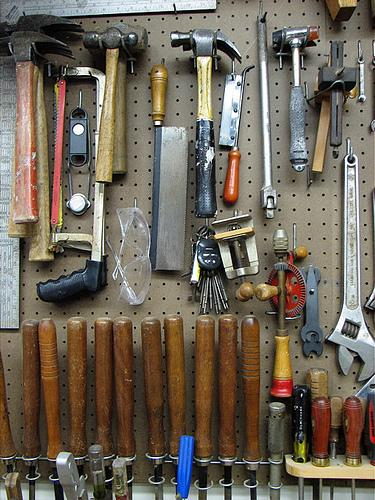hammer: (0, 29, 75, 226), (168, 27, 244, 220), (80, 26, 138, 184)
